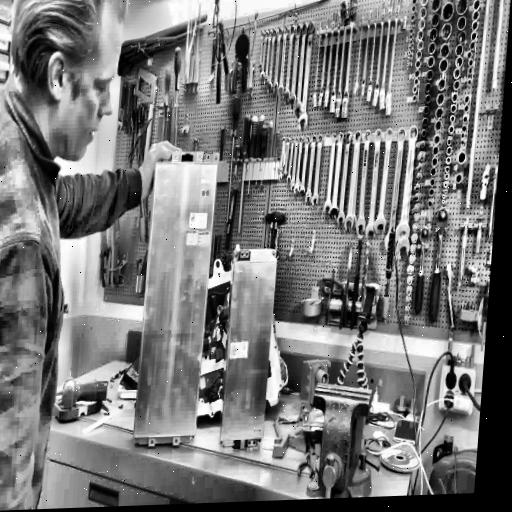battery_module: (135, 158, 217, 440), (220, 260, 278, 442)
